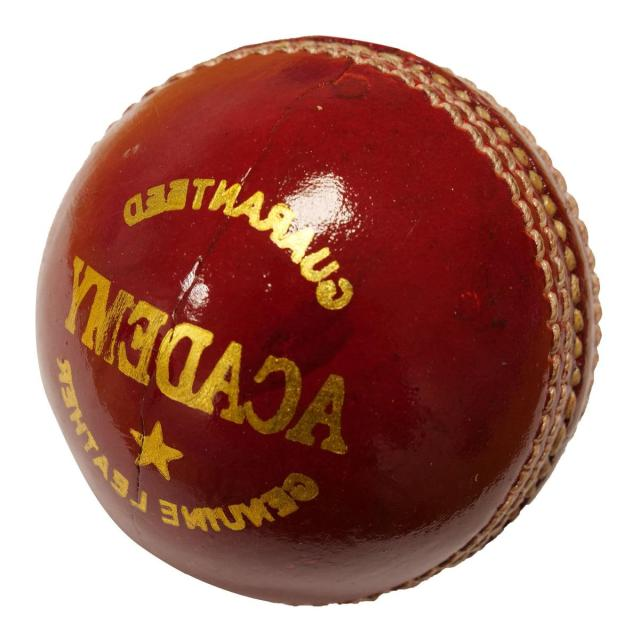ball: (33, 41, 600, 610)
